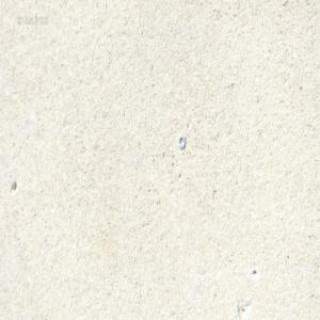Washertrack_idkeyframe: (170, 131, 197, 158)
